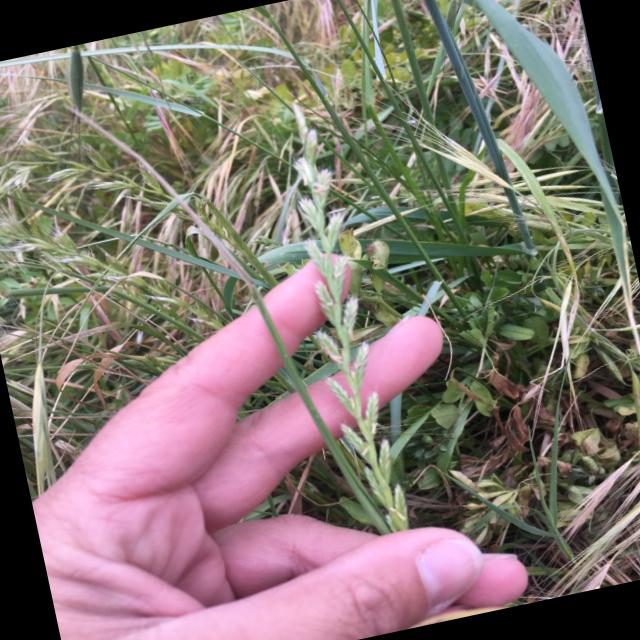Lolium: (215, 97, 426, 556), (0, 111, 261, 347)
